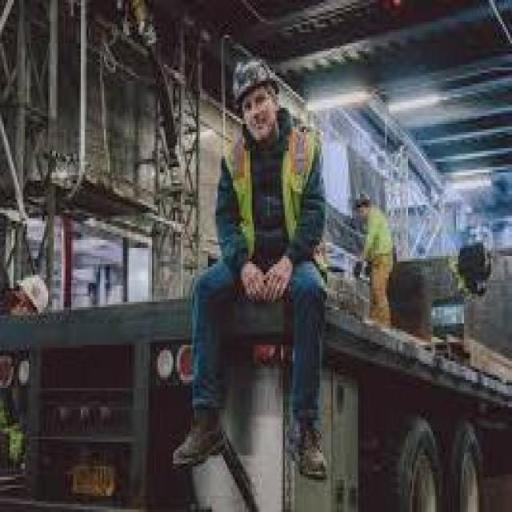Person: (182, 46, 338, 508)
helmet: (212, 52, 294, 94), (20, 273, 49, 309)
vest: (220, 130, 323, 262)
